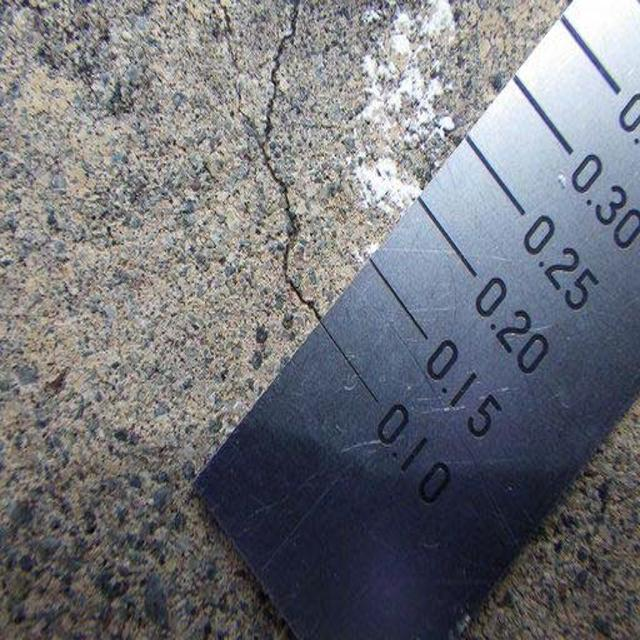crack: (249, 11, 327, 320)
